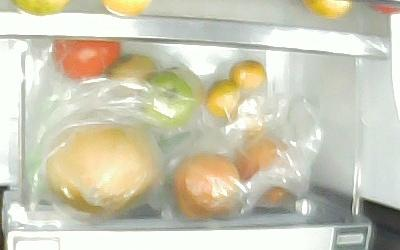peach_vinyl: (171, 152, 242, 219), (234, 135, 288, 206)
pear_vinyl: (46, 125, 155, 213)
tangerine_vinyl: (206, 78, 241, 116), (228, 60, 266, 89)
tomato_vinyl: (135, 69, 194, 127), (51, 39, 121, 79), (109, 55, 156, 88)
